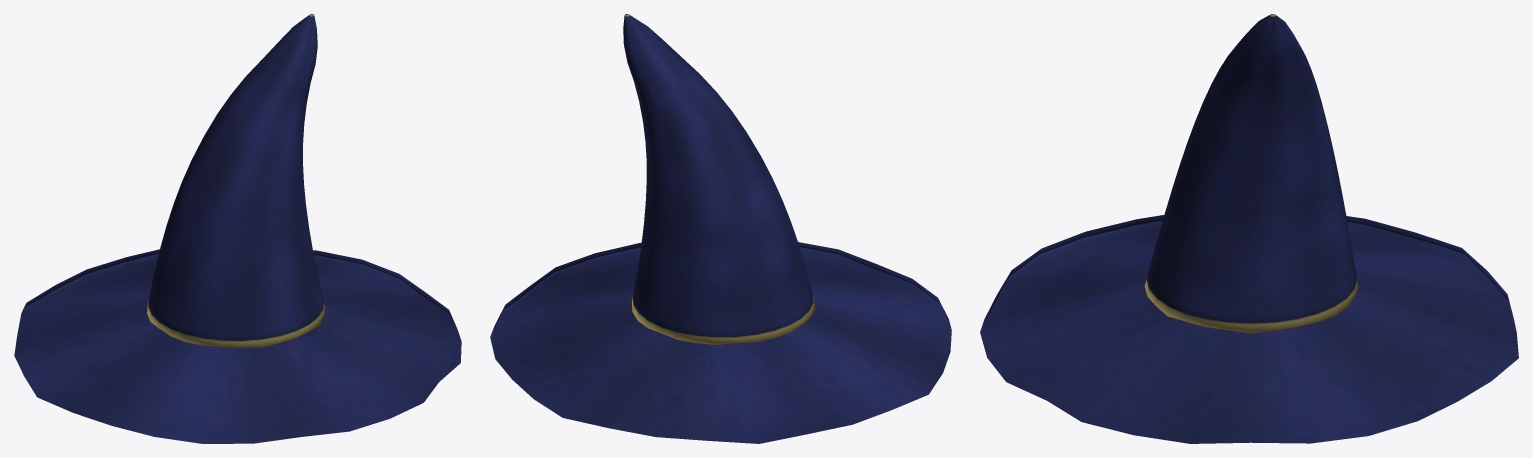
Rendered from night_pointed_head.glb.
3 views of the same model, side by side, from view 1: azimuth 30°, elevation 25°; view 2: azimuth 150°, elevation 25°; view 3: azimuth 270°, elevation 25° (orthographic). The views are drawn at different scales.
Visible parts, largest first — view 1: night_pointed_head; view 2: night_pointed_head; view 3: night_pointed_head.
Part boxes in pixels (x1=…): night_pointed_head: x1=14, y1=14, x2=461, y2=443; night_pointed_head: x1=490, y1=14, x2=951, y2=443; night_pointed_head: x1=980, y1=14, x2=1518, y2=443.
Bounding box in the file's own units: 0.55 × 0.4122 × 0.5494.
1 material, 1 textured.
